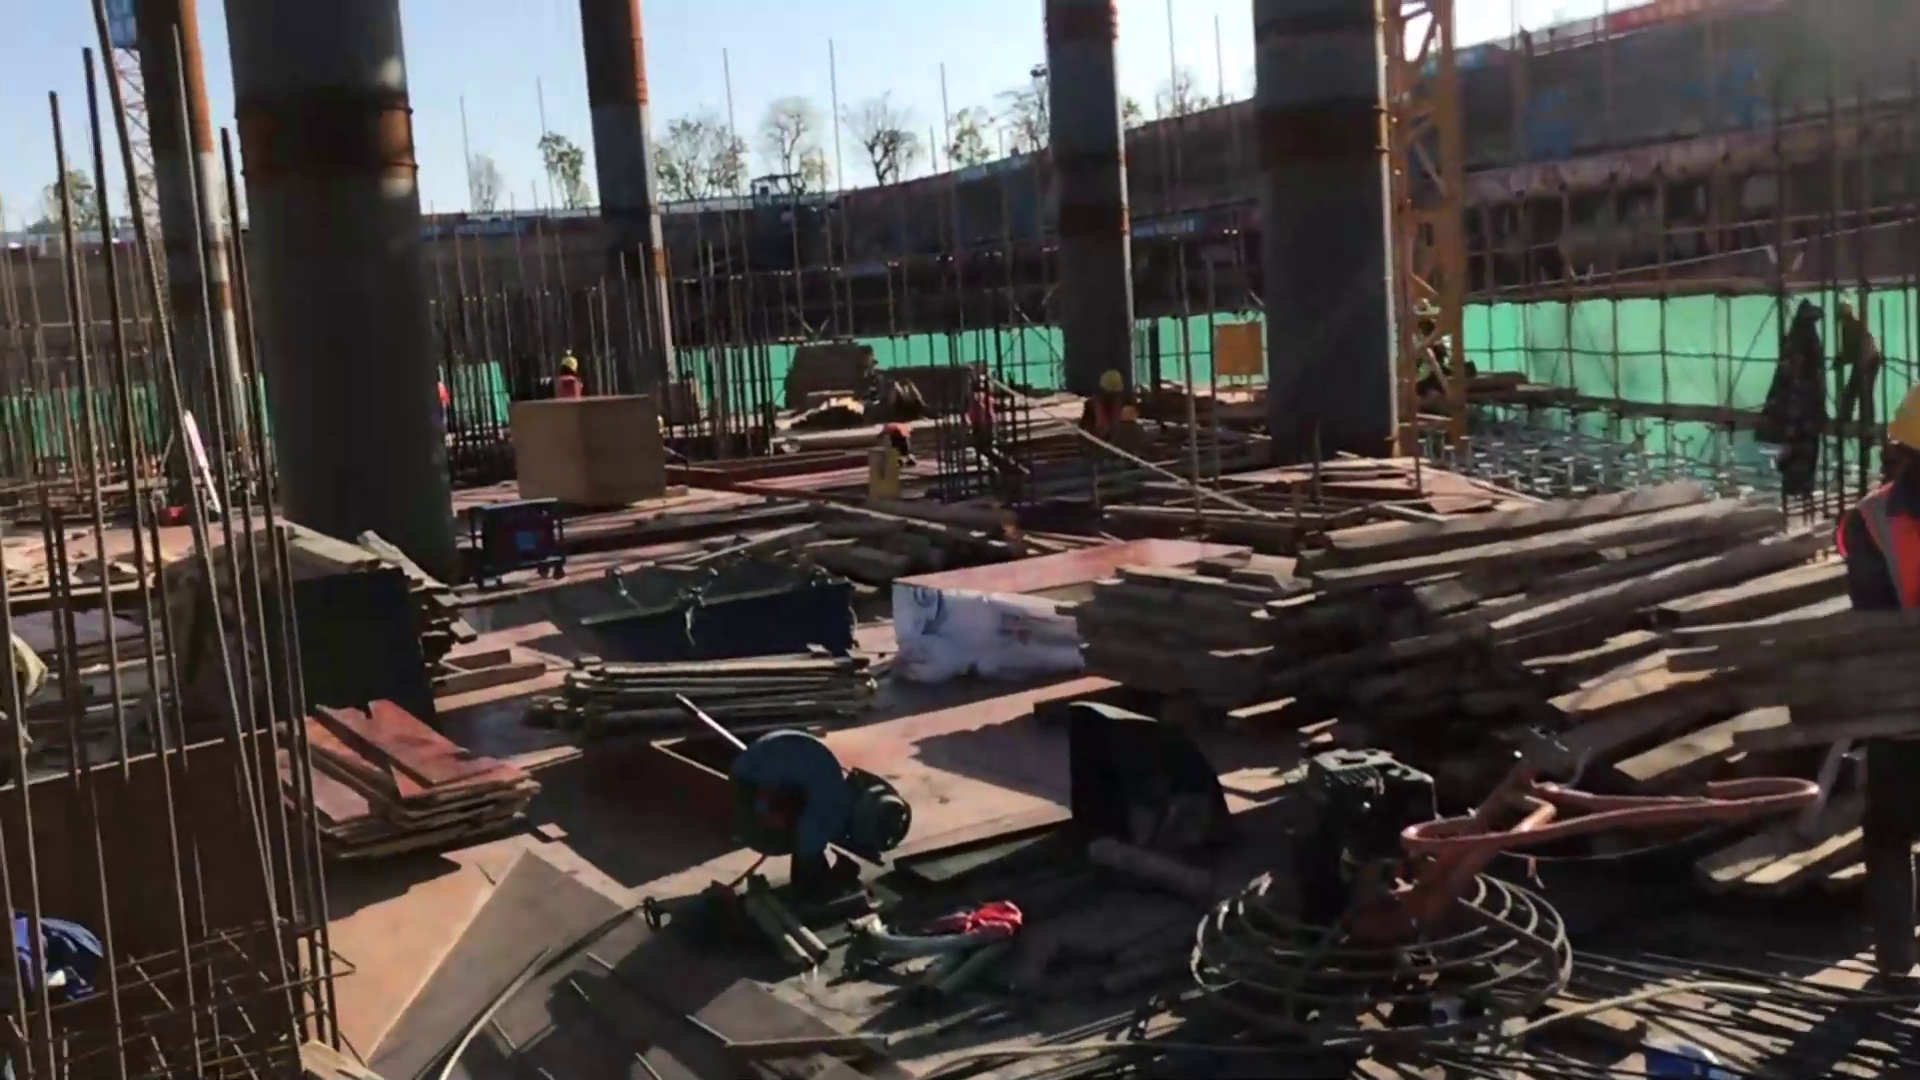board: (273, 688, 544, 857), (573, 658, 866, 714)
person: (1840, 384, 1920, 987)
rebar: (1097, 483, 1831, 902)
